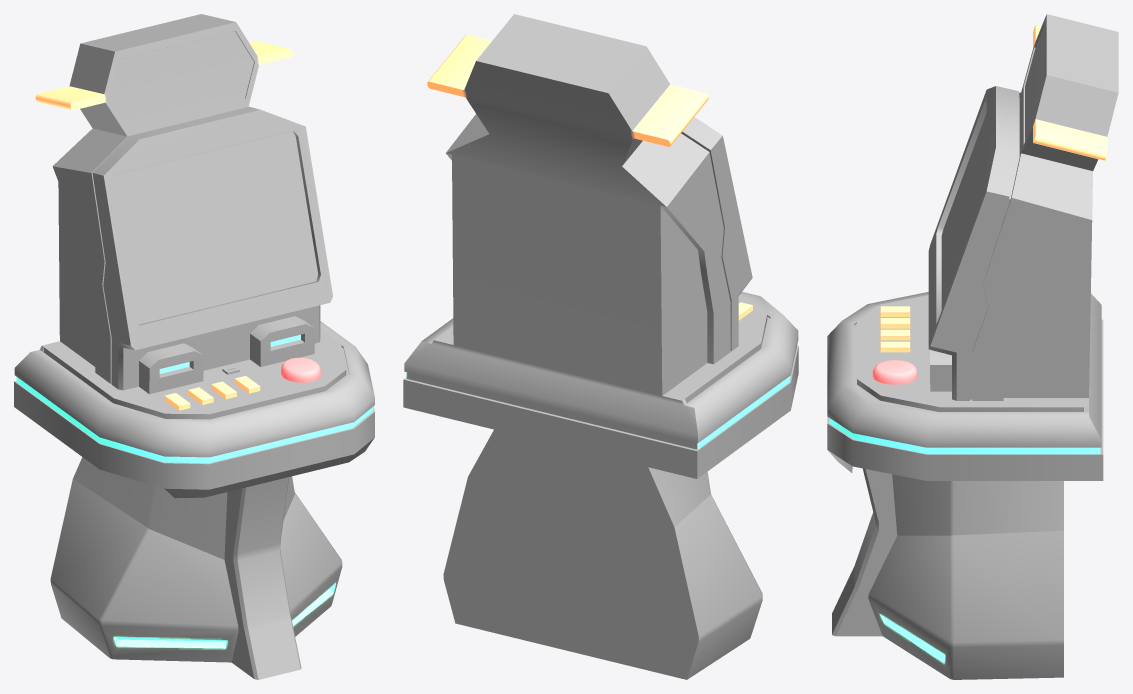
File: GamingSlotMachine.fbx
The picture shows the model from 3 angles, left to right: view 1: azimuth 30°, elevation 25°; view 2: azimuth 150°, elevation 25°; view 3: azimuth 270°, elevation 25°; orthographic projection. The views are drawn at different scales.
Visible parts, largest first — view 1: Gaming slot machine; view 2: Gaming slot machine; view 3: Gaming slot machine.
Boxes of the visible parts, x1,y1,x2,y2 form: Gaming slot machine: [14, 14, 374, 679]; Gaming slot machine: [403, 14, 798, 679]; Gaming slot machine: [827, 14, 1118, 679].
Bounding box in the file's own units: 100 × 200 × 91.01.
